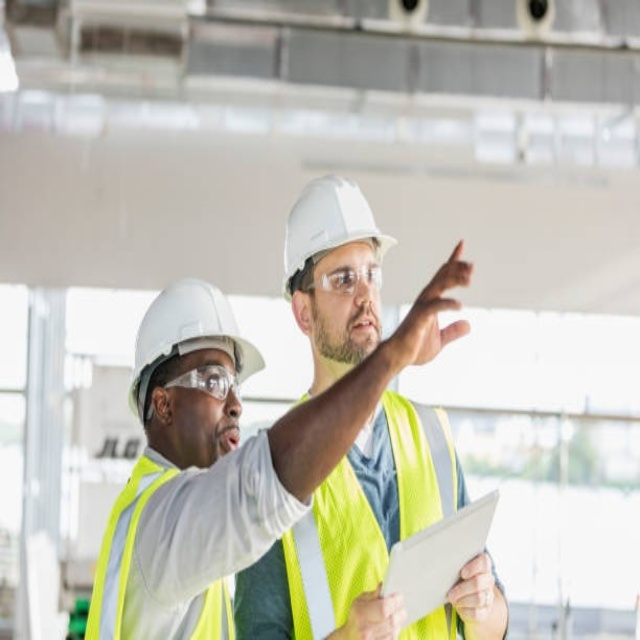Gafas: (162, 365, 244, 405), (308, 264, 383, 294)
Sin_guantes: (392, 238, 479, 369), (326, 579, 406, 640), (446, 549, 497, 623)
Sin_mascara: (204, 420, 243, 456), (347, 312, 379, 347)
